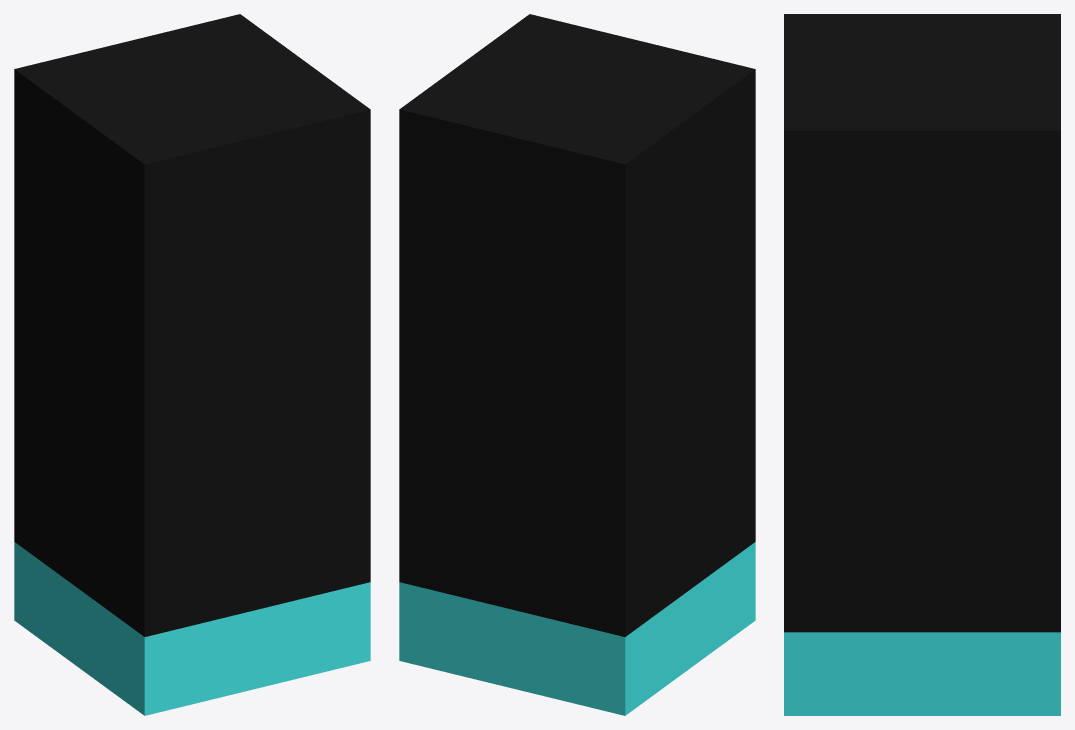
The model's file is thighs modeling.obj.
3 views of the same model, side by side, from view 1: azimuth 30°, elevation 25°; view 2: azimuth 150°, elevation 25°; view 3: azimuth 270°, elevation 25° (orthographic). The views are drawn at different scales.
Size of the model in its own units: 0.3 by 0.7 by 0.3.
1 material, 1 textured.
